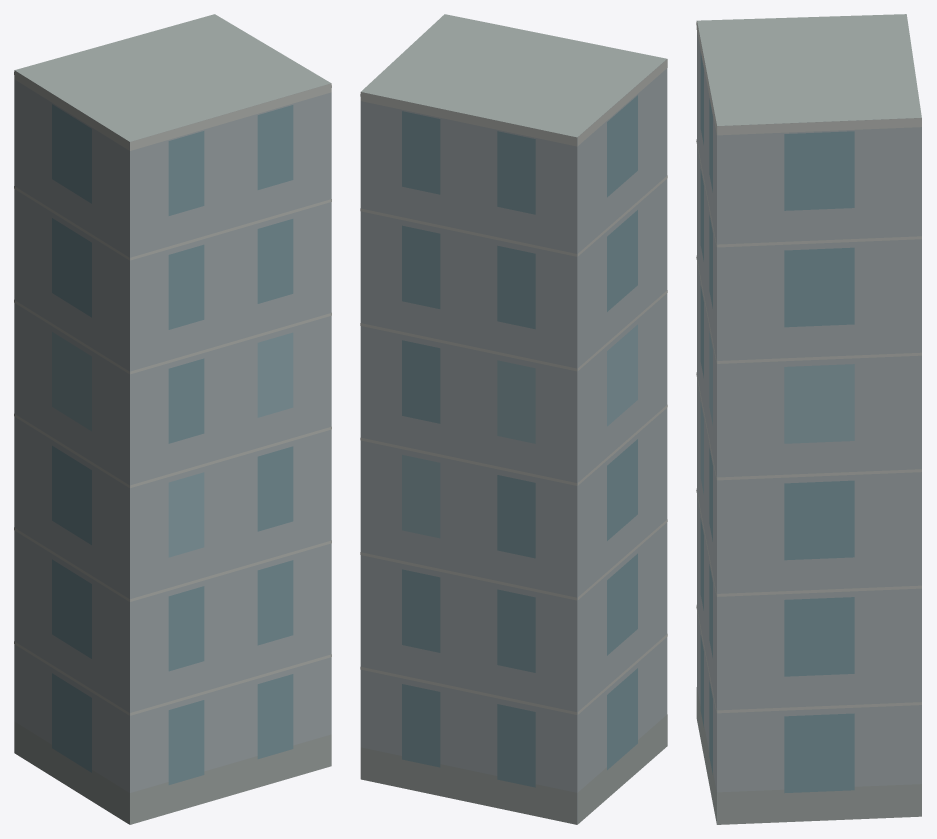
The model's file is survey-upis-32629165.glb.
3 views of the same model, side by side, from view 1: azimuth 30°, elevation 25°; view 2: azimuth 150°, elevation 25°; view 3: azimuth 270°, elevation 25° (orthographic). The views are drawn at different scales.
Visible parts, largest first — view 1: survey-upis-32629165.tmp; view 2: survey-upis-32629165.tmp; view 3: survey-upis-32629165.tmp.
Boxes of the visible parts, box(x1,y1,x2,y2) form: survey-upis-32629165.tmp: box(14, 14, 331, 824); survey-upis-32629165.tmp: box(360, 14, 667, 824); survey-upis-32629165.tmp: box(696, 14, 921, 824).
Bounding box in the file's own units: 6.32 × 18.3 × 5.36.
